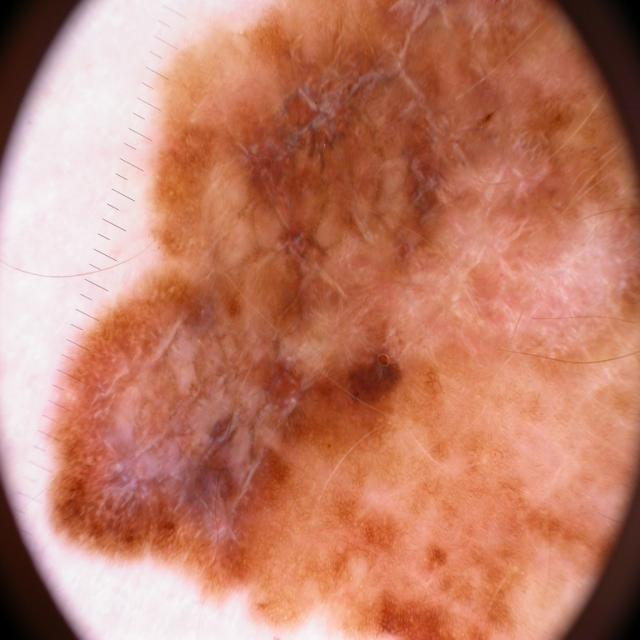Melanoma: (31, 0, 637, 637)
